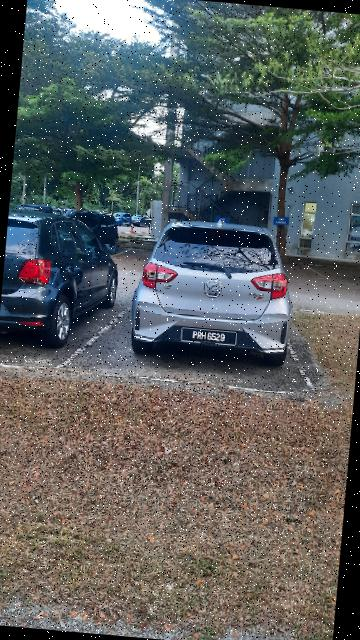License_Plate: (178, 327, 241, 348)
car: (124, 211, 306, 371)
